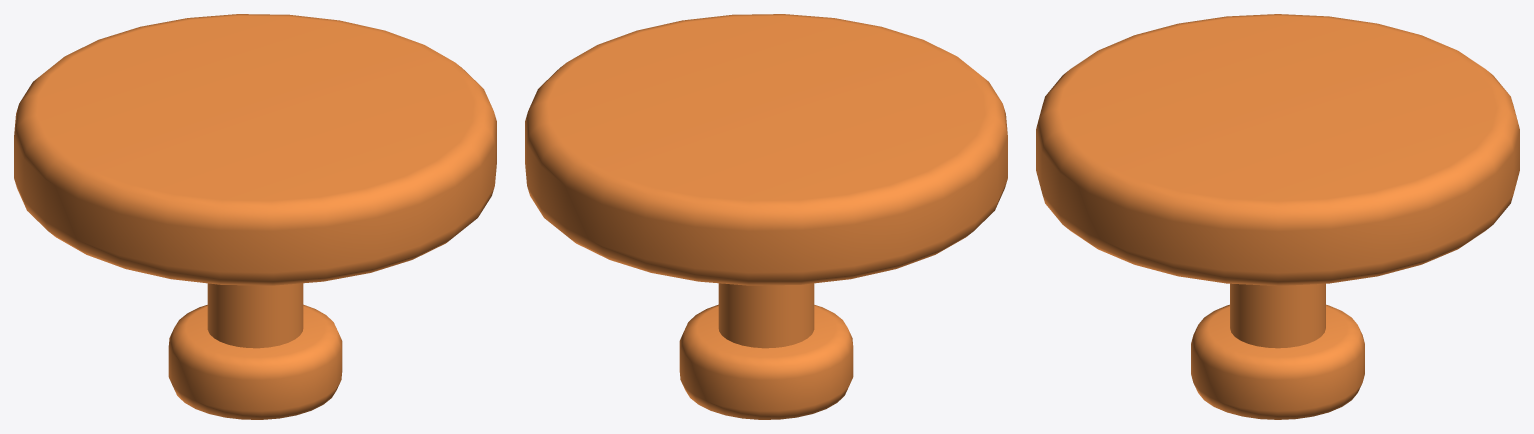
The model's file is RoundTable_orange.glb.
3 renders of one model, left to right at view 1: azimuth 30°, elevation 25°; view 2: azimuth 150°, elevation 25°; view 3: azimuth 270°, elevation 25°, orthographic.
Visible parts, largest first — view 1: Table_6; view 2: Table_6; view 3: Table_6.
Boxes of the visible parts, box(x1,y1,x2,y2) form: Table_6: box(14, 14, 496, 419); Table_6: box(525, 14, 1007, 419); Table_6: box(1036, 14, 1519, 419).
Size of the model in its own units: 1.07 by 0.6881 by 1.07.
Materials: 1 (1 with a texture image).
